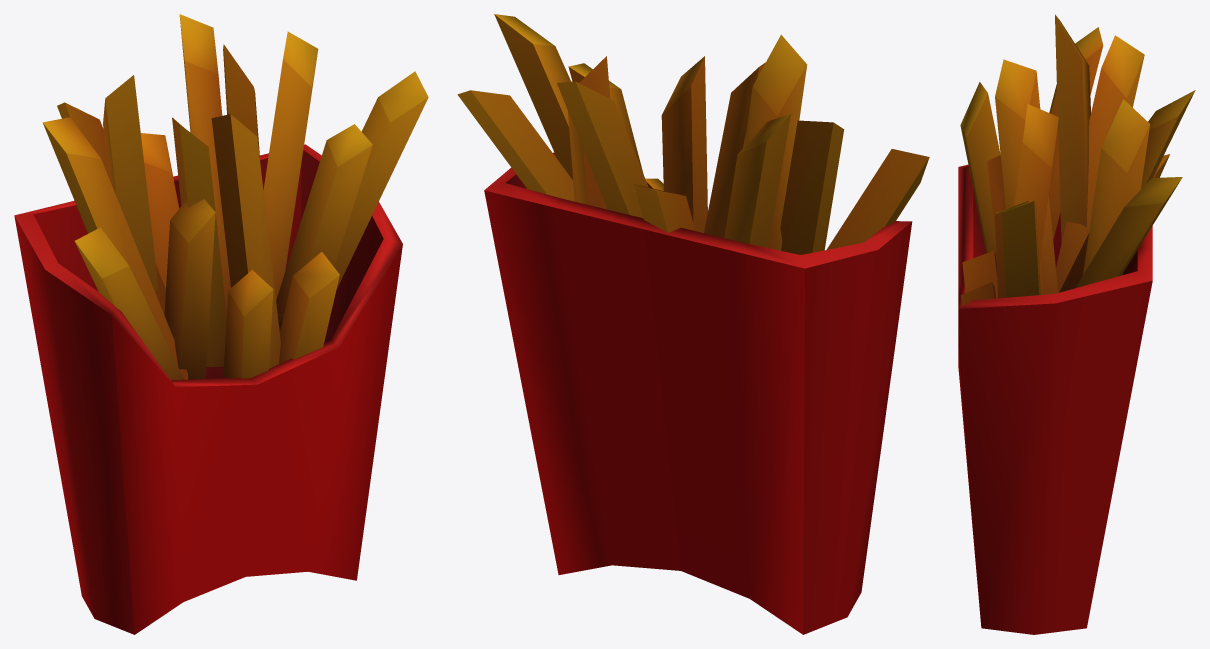
File: Fries_Regular.fbx
The picture shows the model from 3 angles, left to right: view 1: azimuth 30°, elevation 25°; view 2: azimuth 150°, elevation 25°; view 3: azimuth 270°, elevation 25°; orthographic projection. The views are drawn at different scales.
Visible parts, largest first — view 1: Fries_Regular; view 2: Fries_Regular; view 3: Fries_Regular.
Part boxes in pixels (bbox=[...]): Fries_Regular: bbox=[14, 14, 428, 634]; Fries_Regular: bbox=[457, 14, 929, 634]; Fries_Regular: bbox=[958, 14, 1195, 634].
Bounding box in the file's own units: 33.65 × 45.82 × 18.83.
